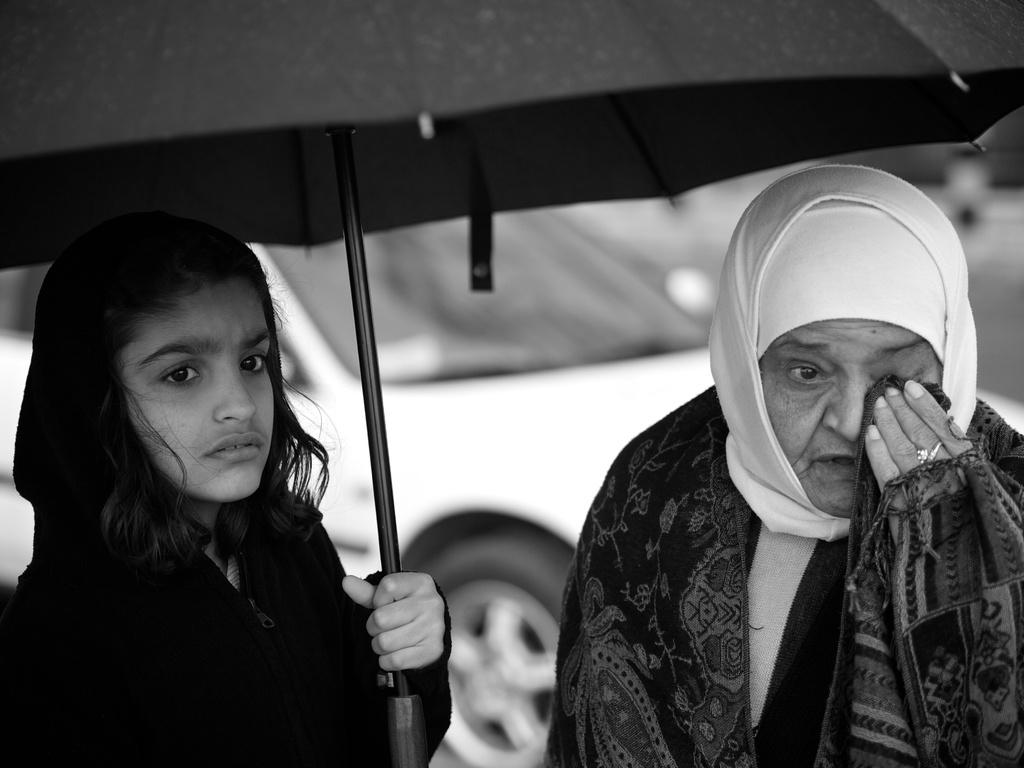Human_hand: (862, 379, 986, 560), (346, 580, 449, 694)
